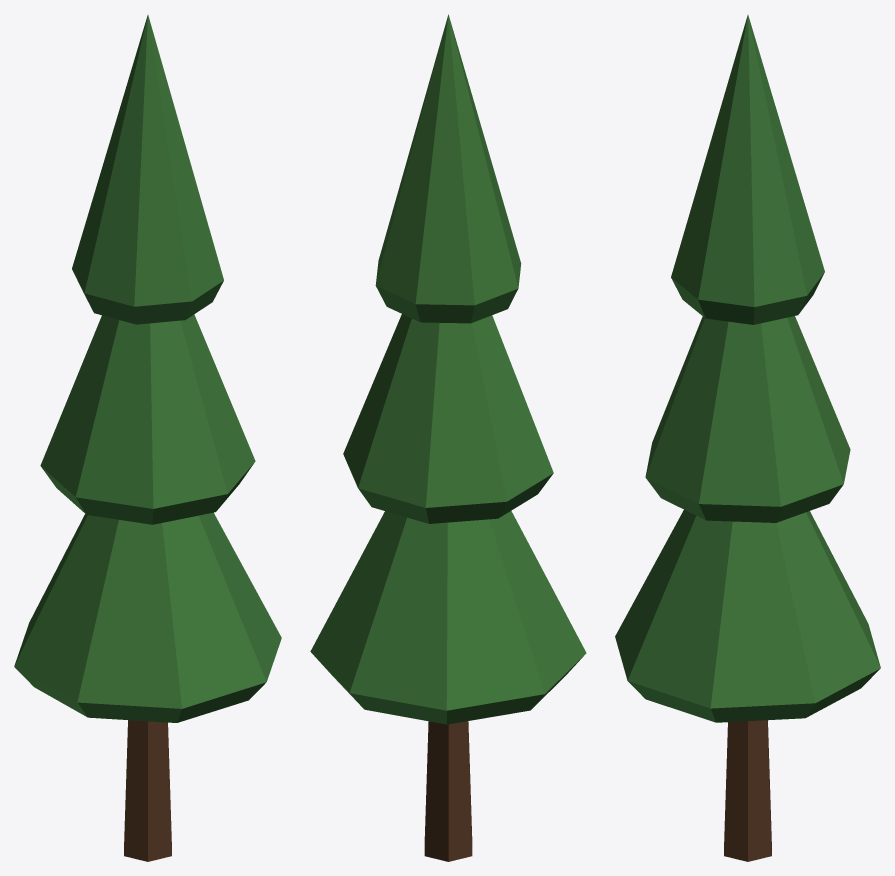
Rendered from tree_pineTallC.glb.
The picture shows the model from 3 angles, left to right: view 1: azimuth 30°, elevation 25°; view 2: azimuth 150°, elevation 25°; view 3: azimuth 270°, elevation 25°; orthographic projection.
Parts seen in each view (by area): view 1: tree_pineTallC; view 2: tree_pineTallC; view 3: tree_pineTallC.
Boxes of the visible parts, x1,y1,x2,y2 form: tree_pineTallC: (14,15,281,861); tree_pineTallC: (310,14,586,861); tree_pineTallC: (615,15,880,861).
Bounding box in the file's own units: 0.4813 × 1.67 × 0.4813.
Materials: 1 (1 with a texture image).
